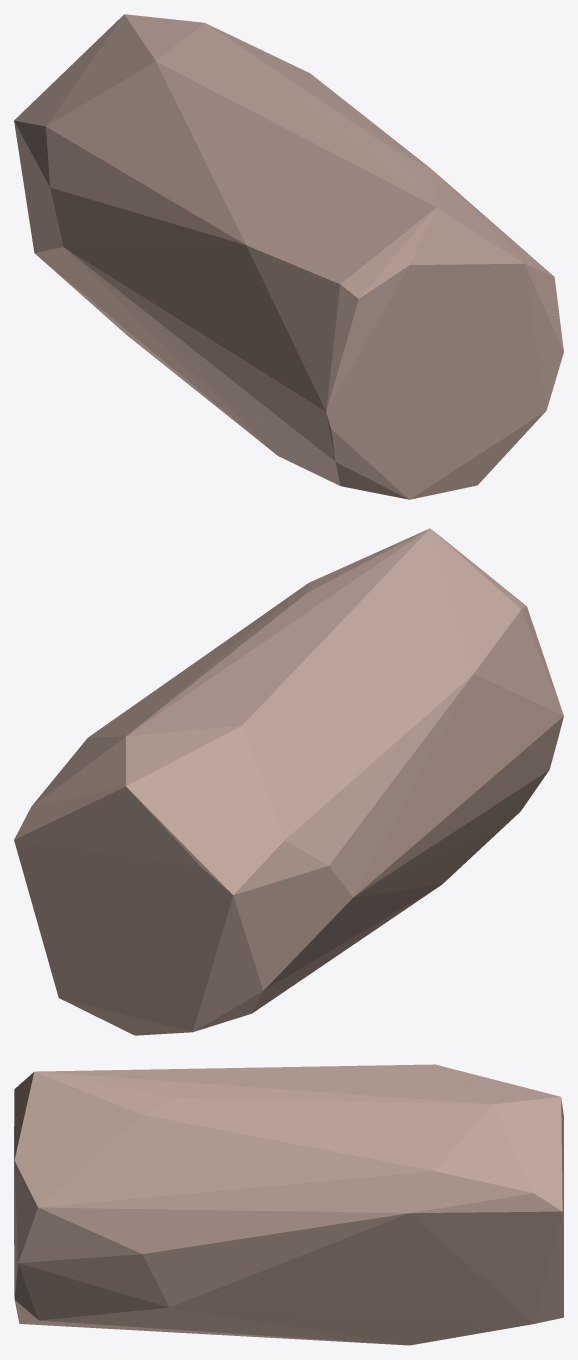
File: warehouse_barrel_plastic_a01.glb
3 views of the same model, one above another, from view 1: azimuth 30°, elevation 25°; view 2: azimuth 150°, elevation 25°; view 3: azimuth 270°, elevation 25° (orthographic). The views are drawn at different scales.
Visible parts, largest first — view 1: geometry_0; view 2: geometry_0; view 3: geometry_0.
Boxes of the visible parts, x1,y1,x2,y2 form: geometry_0: (14,14,563,499); geometry_0: (14,528,563,1035); geometry_0: (14,1064,563,1345).
Size of the model in its own units: 0.247 by 0.2483 by 0.48.
